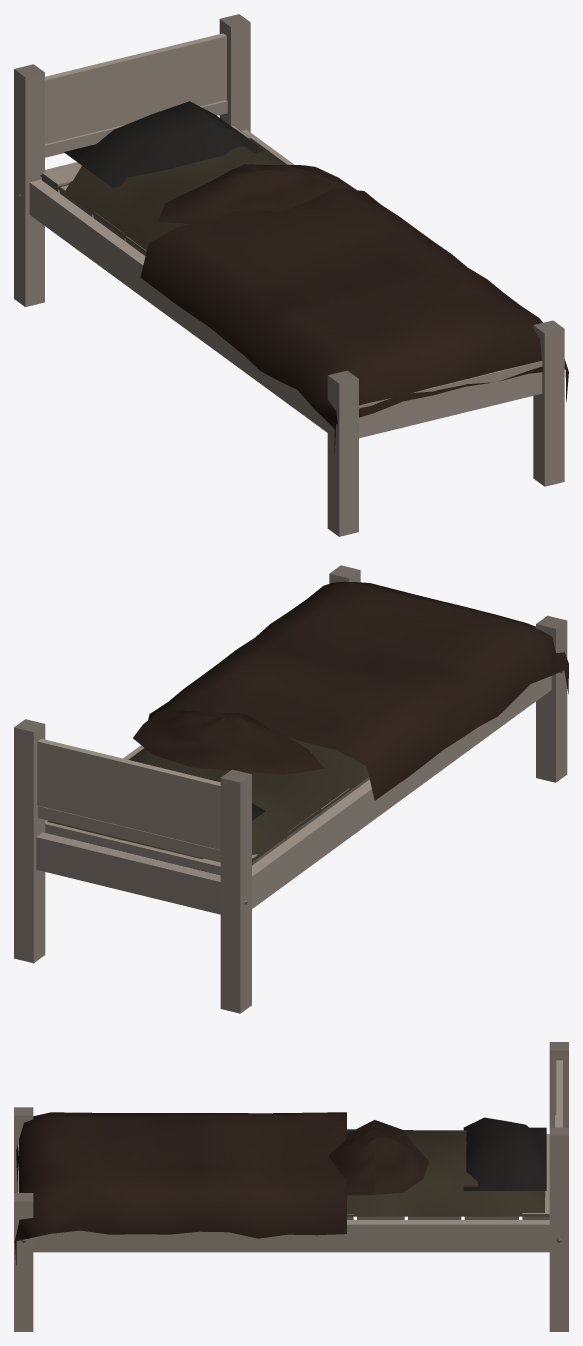
Rendered from prop_cot.glb.
3 views of the same model, one above another, from view 1: azimuth 30°, elevation 25°; view 2: azimuth 150°, elevation 25°; view 3: azimuth 270°, elevation 25° (orthographic). The views are drawn at different scales.
Parts seen in each view (by area): view 1: CotSoft, Cot; view 2: CotSoft, Cot; view 3: CotSoft, Cot.
Boxes of the visible parts, box(x1,y1,x2,y2) form: CotSoft: box(40, 101, 568, 453); Cot: box(14, 14, 564, 536); CotSoft: box(47, 581, 568, 862); Cot: box(14, 565, 567, 1013); CotSoft: box(14, 1112, 549, 1264); Cot: box(14, 1042, 568, 1331).
Bounding box in the file's own units: 0.8344 × 0.78 × 2.
